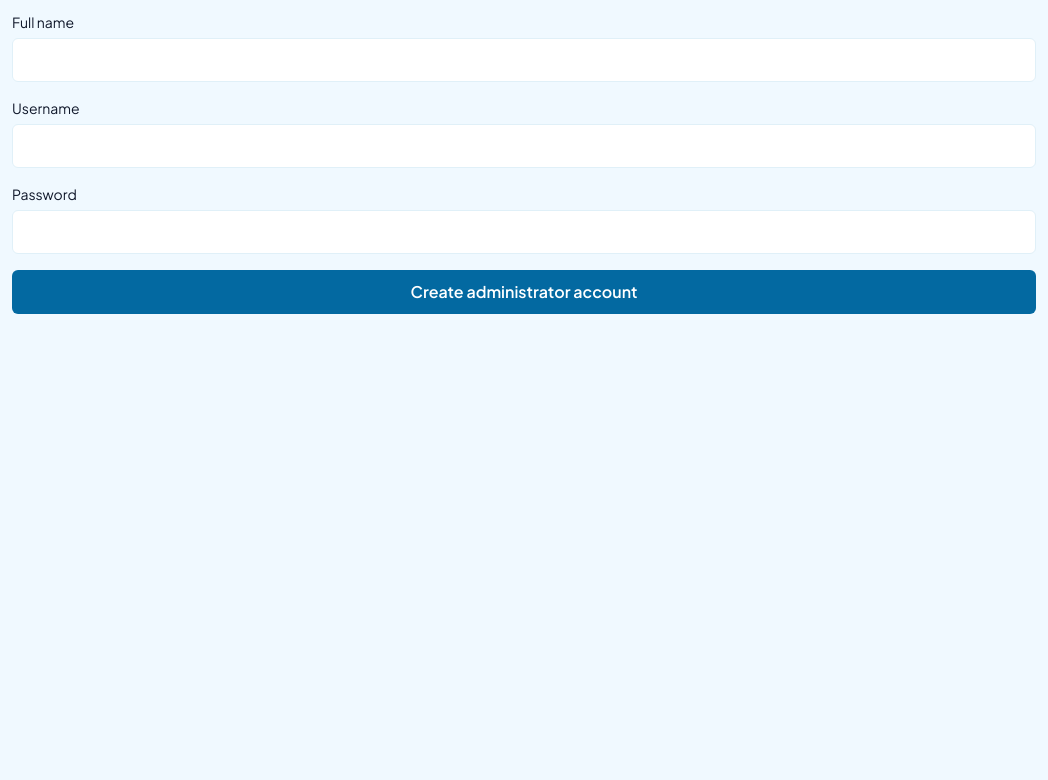
Test: BootstrapForm › shows a toast with the server error message on a failed bootstrap and does not navigate
Type "Ada Lovelace" into the field labelled "Full name".
click(524, 60); type("Ada Lovelace")  # box left=12, top=38, right=1036, bottom=82
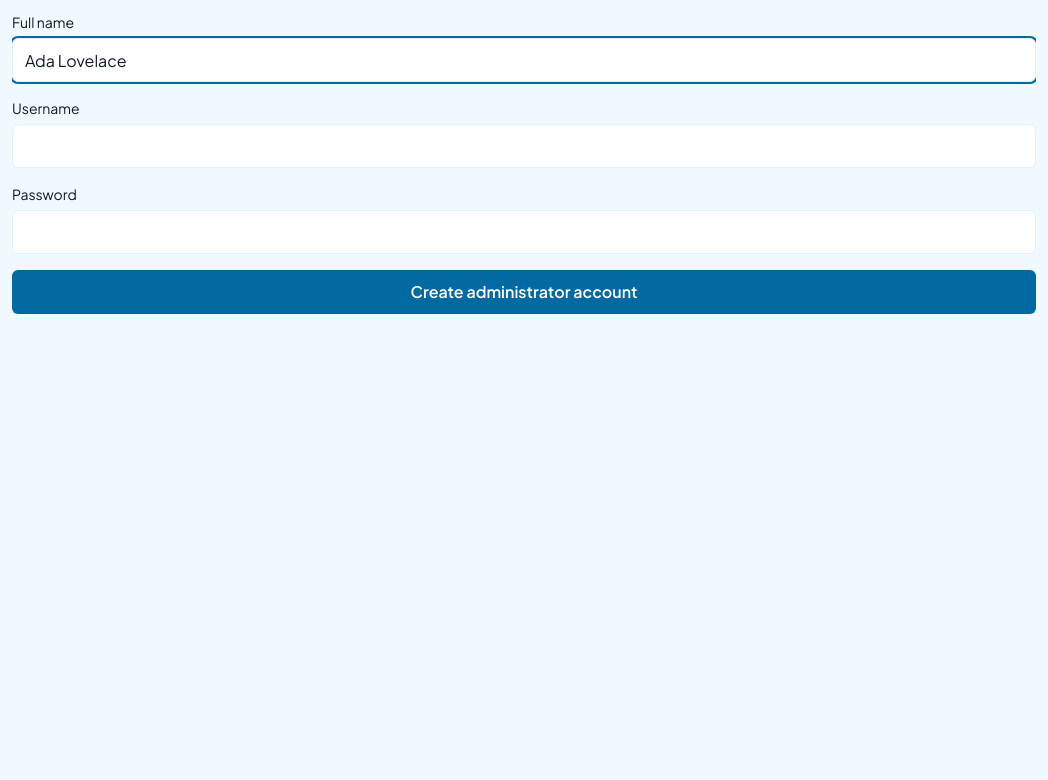
Type "ada.admin" into the field labelled "Username".
click(524, 146); type("ada.admin")  # box left=12, top=124, right=1036, bottom=168
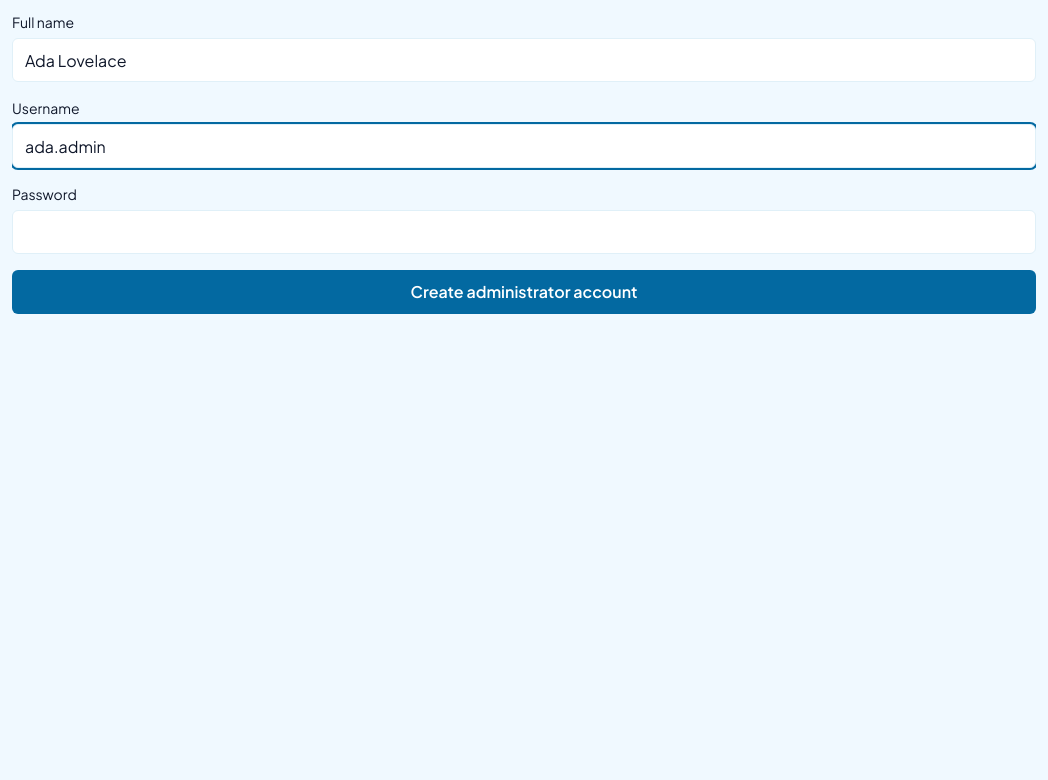
Type "Sup3r-Secret-Pass" into the password field labelled "Password".
click(524, 232); type("Sup3r-Secret-Pass")  # box left=12, top=210, right=1036, bottom=254
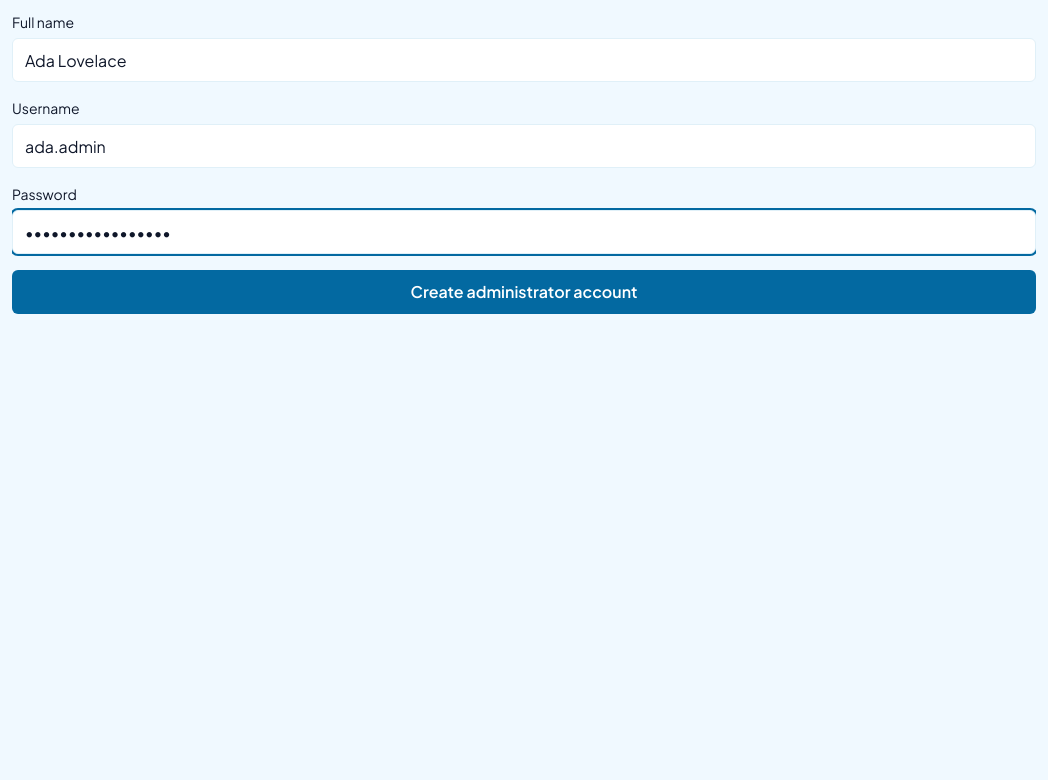
Click the button "Create administrator account".
click(524, 292)  # box left=12, top=270, right=1036, bottom=314
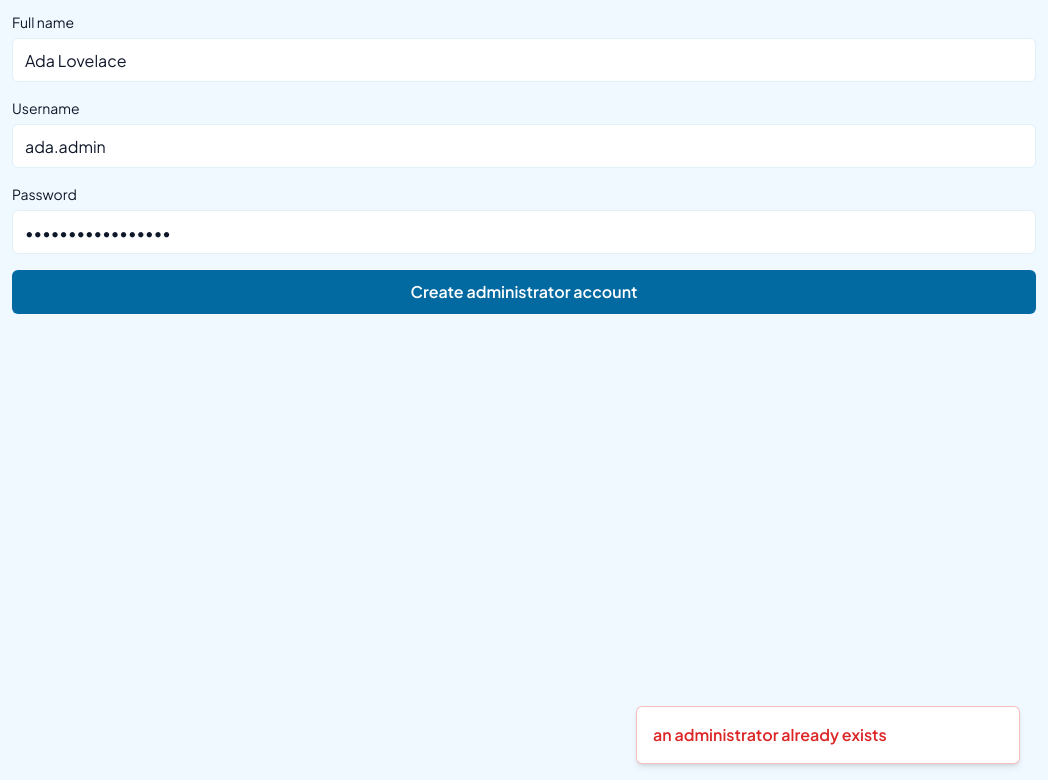
Now the text "an administrator already exists" is shown, box left=653, top=724, right=887, bottom=745
